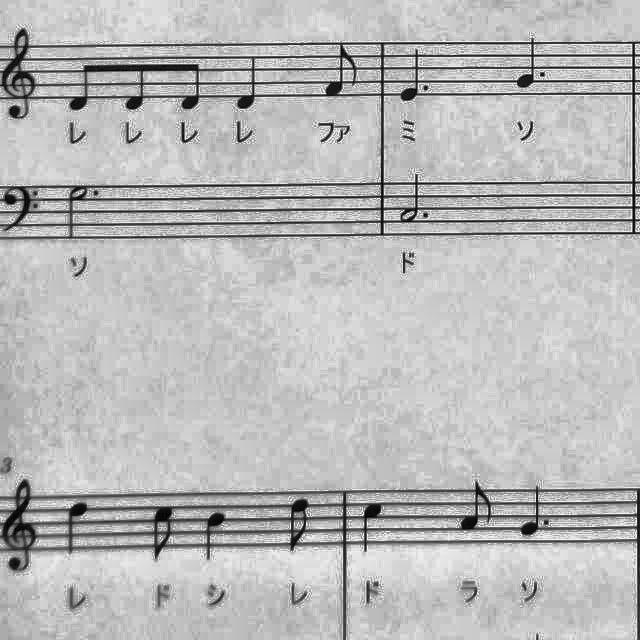Bass-clef: (0, 182, 44, 242)
Eighth-note: (321, 41, 363, 104), (454, 480, 498, 536), (146, 500, 182, 568), (280, 495, 316, 561), (63, 56, 101, 116), (176, 54, 212, 116), (120, 52, 154, 116)
Half-dot: (60, 180, 104, 244), (395, 172, 437, 228)
Quarter-dot: (395, 42, 441, 112), (514, 36, 556, 96), (514, 486, 556, 544)
Quarter-note: (59, 494, 95, 562), (228, 49, 264, 115), (198, 504, 234, 566), (355, 497, 389, 559)
Treble-clef: (0, 21, 44, 127), (0, 475, 44, 581)
